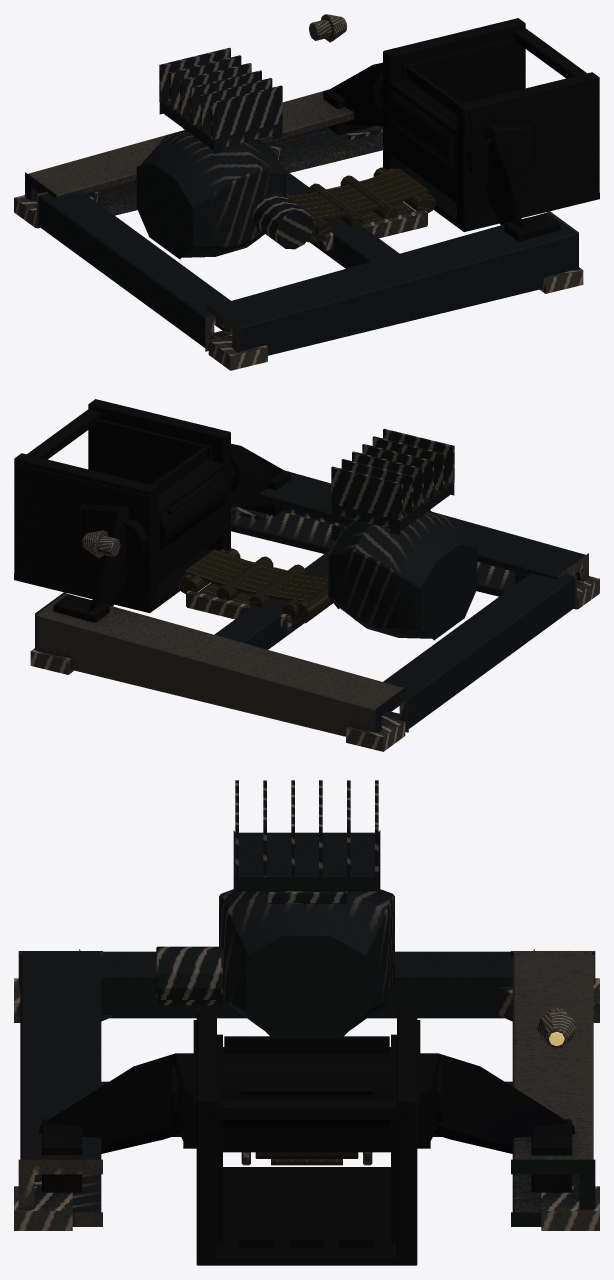
File: extractor_lod0.glb
3 renders of one model, top to bottom at view 1: azimuth 30°, elevation 25°; view 2: azimuth 150°, elevation 25°; view 3: azimuth 270°, elevation 25°, orthographic. The views are drawn at different scales.
Visible parts, largest first — view 1: LOD0_extractor, LOD0_head, LOD0_belt, LOD0_lamp; view 2: LOD0_extractor, LOD0_head, LOD0_belt, LOD0_lamp; view 3: LOD0_extractor, LOD0_head, LOD0_belt, LOD0_lamp.
Boxes of the visible parts, x1=… form: LOD0_extractor: x1=14, y1=47, x2=583, y2=370; LOD0_head: x1=323, y1=18, x2=599, y2=241; LOD0_belt: x1=286, y1=167, x2=435, y2=242; LOD0_lamp: x1=309, y1=14, x2=346, y2=42; LOD0_extractor: x1=30, y1=428, x2=599, y2=751; LOD0_head: x1=14, y1=399, x2=290, y2=622; LOD0_belt: x1=178, y1=548, x2=332, y2=623; LOD0_lamp: x1=82, y1=530, x2=120, y2=558; LOD0_extractor: x1=14, y1=780, x2=599, y2=1230; LOD0_head: x1=39, y1=1011, x2=574, y2=1265; LOD0_belt: x1=255, y1=1152, x2=358, y2=1165; LOD0_lamp: x1=537, y1=1008, x2=576, y2=1047.
Bounding box in the file's own units: 1.86 × 0.78 × 1.6.
Materials: 2 (2 with a texture image).
